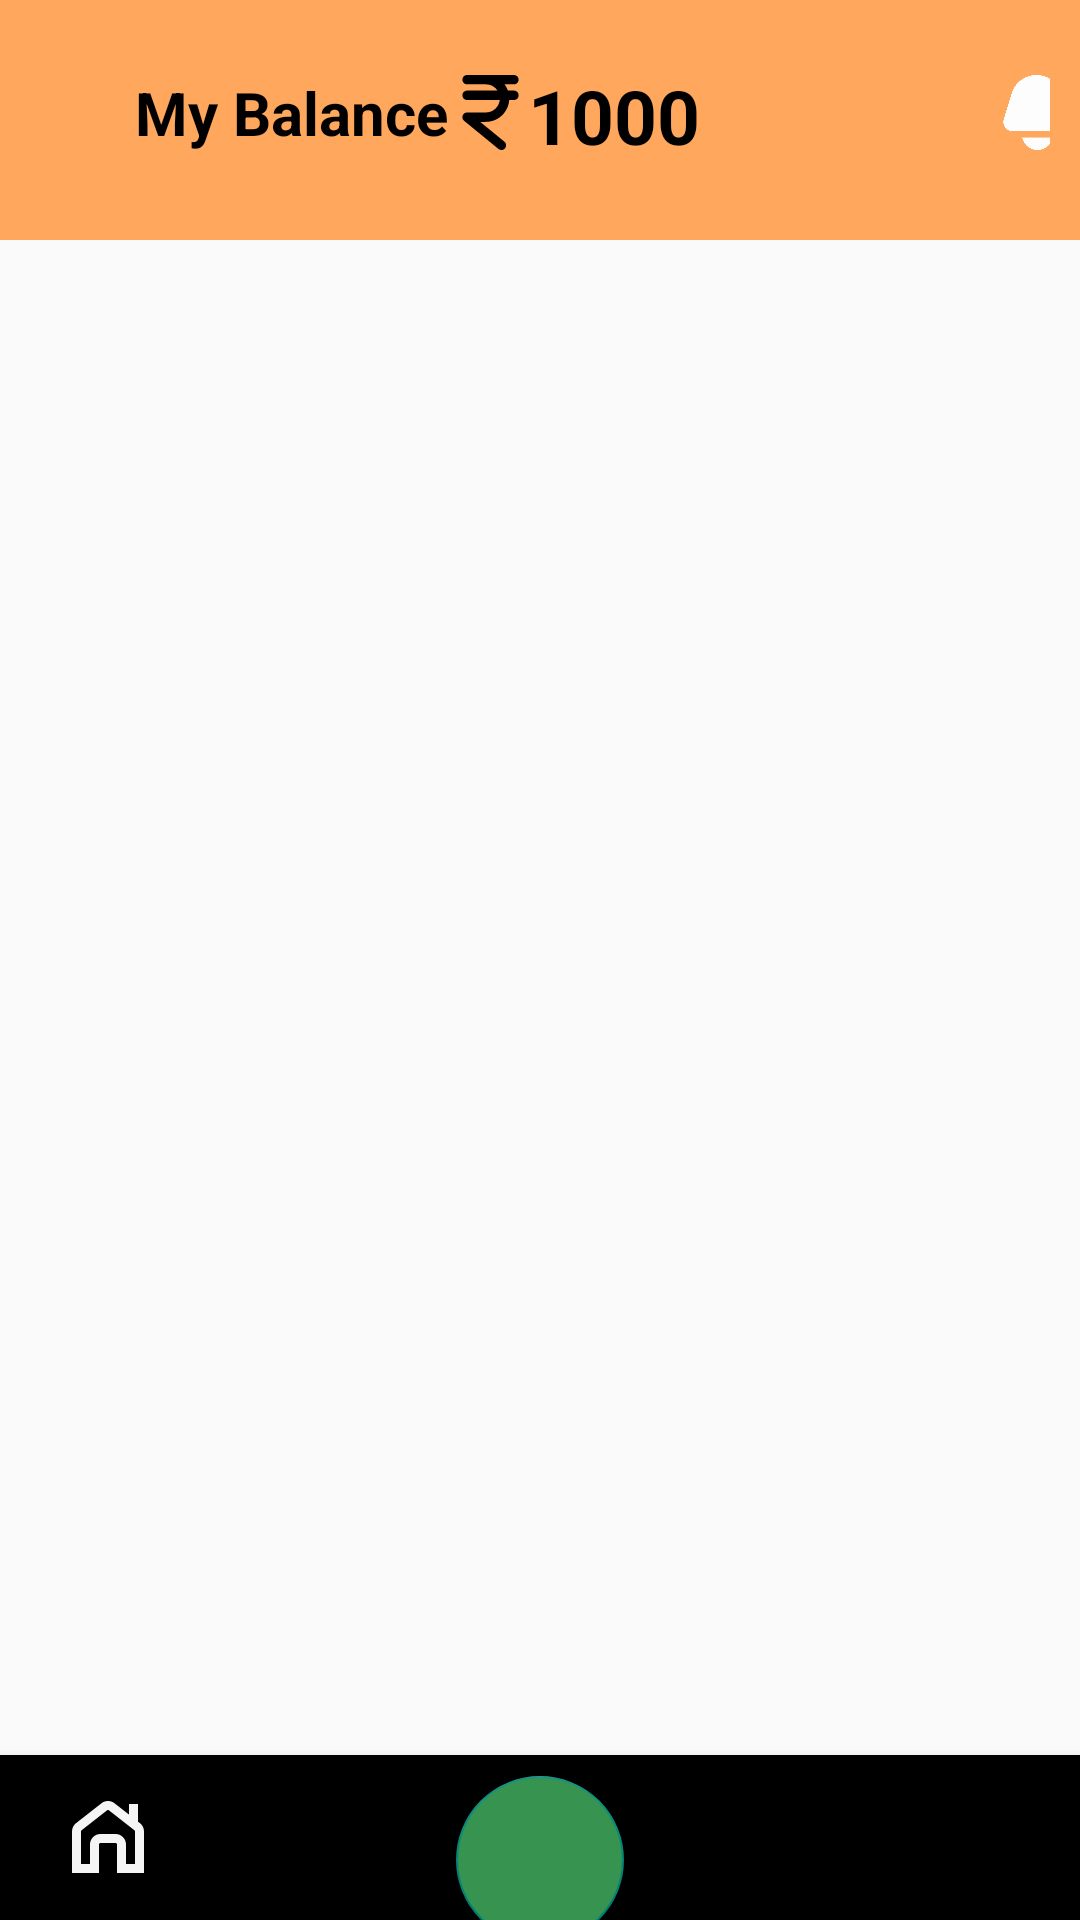

Point at icon controls on the screen. Image size 1080×1920, points as (x=x, y=y).
rupees: (x=490, y=112)
